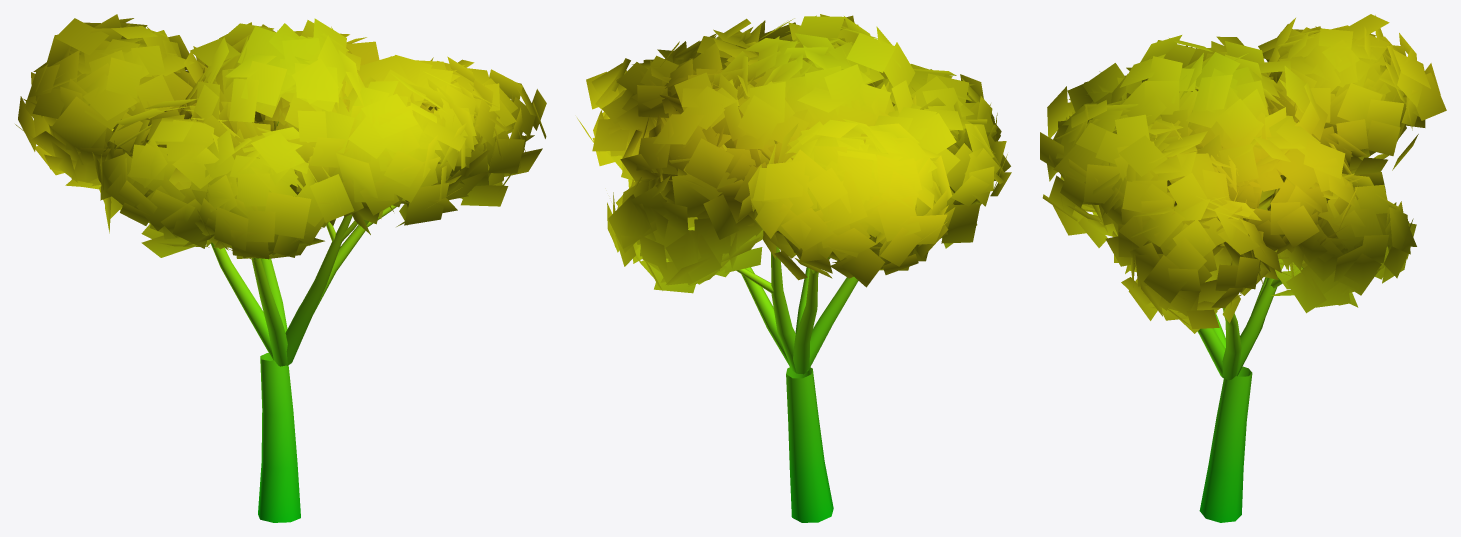
The model's file is keyaki_c.glb.
3 views of the same model, side by side, from view 1: azimuth 30°, elevation 25°; view 2: azimuth 150°, elevation 25°; view 3: azimuth 270°, elevation 25° (orthographic). The views are drawn at different scales.
Parts seen in each view (by area): view 1: keyaki_c; view 2: keyaki_c; view 3: keyaki_c.
Boxes of the visible parts, x1=… form: keyaki_c: x1=15, y1=14, x2=546, y2=522; keyaki_c: x1=577, y1=14, x2=1011, y2=522; keyaki_c: x1=1040, y1=14, x2=1446, y2=522.
Size of the model in its own units: 8.29 by 8.71 by 6.9.
